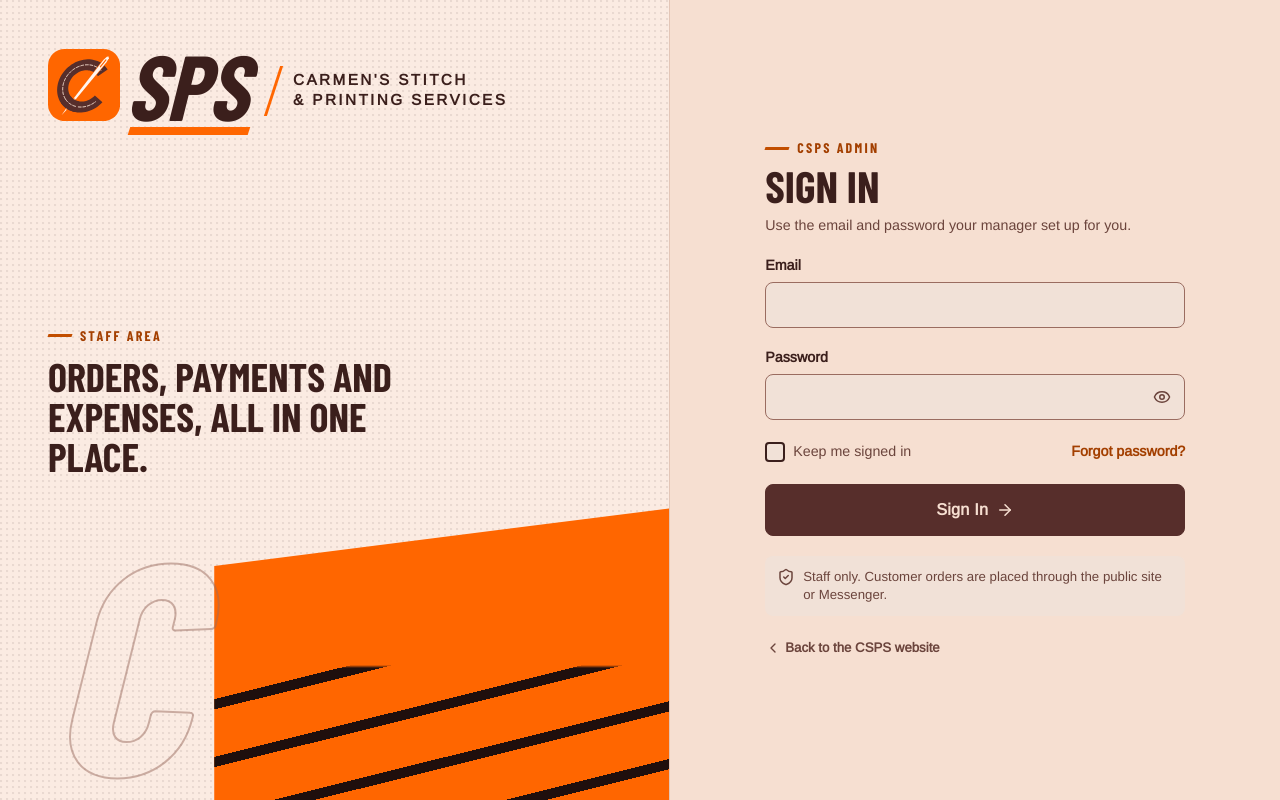
S1 client validation first (OR-3) › submitting empty shows both messages, focuses Email and sends nothing
The image size is (1280, 800).
Click the button "Sign In".
click(975, 510)  # box [765, 484, 1185, 536]
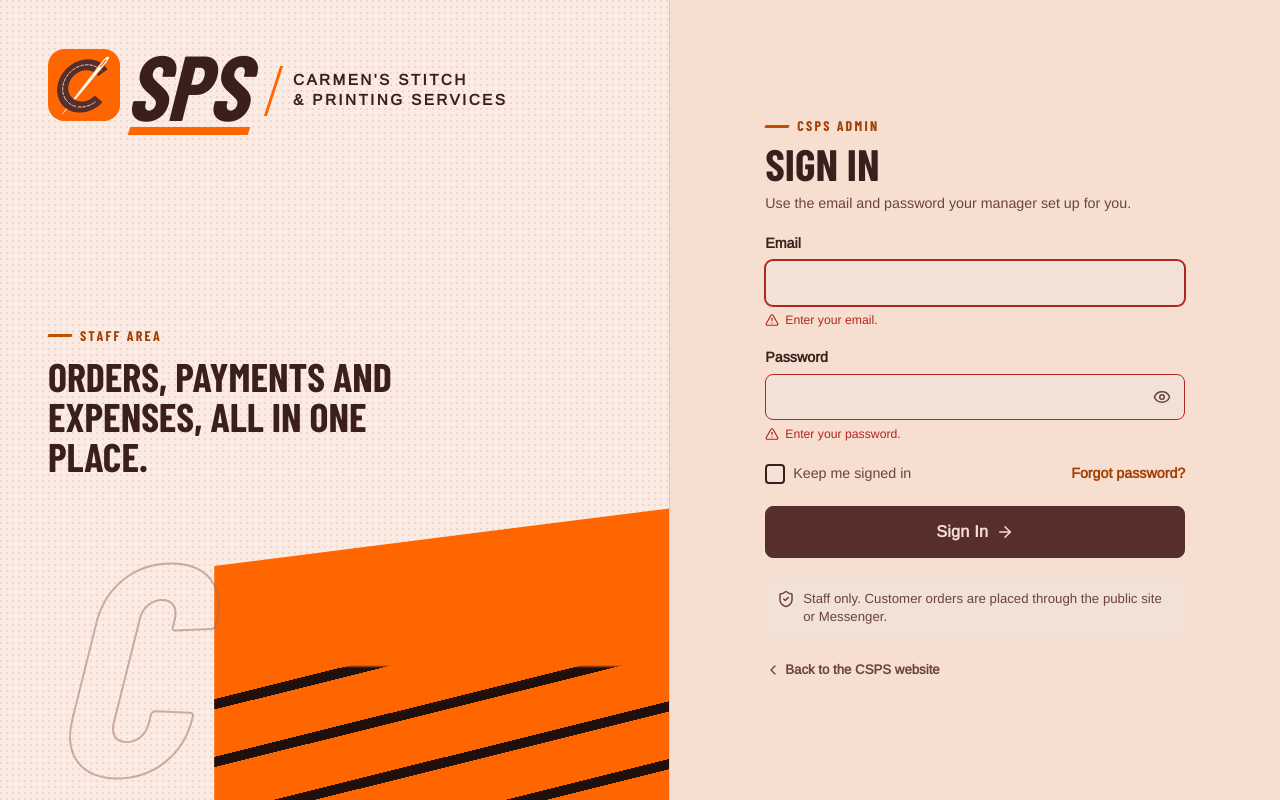
Expected: the text "Enter your email." is shown, [765, 313, 878, 327]
Expected: the text "Enter your password." is shown, [765, 427, 901, 441]
